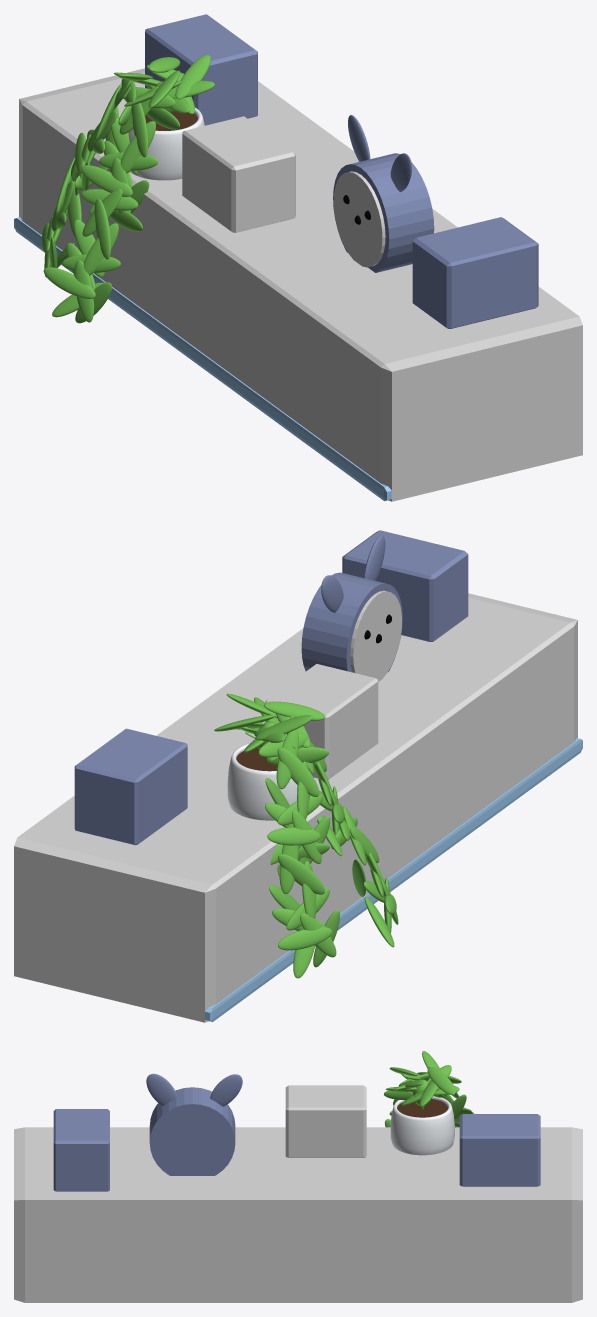
File: Shelf.fbx
3 renders of one model, top to bottom at view 1: azimuth 30°, elevation 25°; view 2: azimuth 150°, elevation 25°; view 3: azimuth 270°, elevation 25°, orthographic. The views are drawn at different scales.
Parts seen in each view (by area): view 1: Cube.001; view 2: Cube.001; view 3: Cube.001.
Part boxes in pixels (bbox=[...]): Cube.001: bbox=[14, 14, 582, 501]; Cube.001: bbox=[14, 530, 582, 1022]; Cube.001: bbox=[14, 1051, 582, 1302].
Bounding box in the file's own units: 85.2 × 200 × 76.11.
